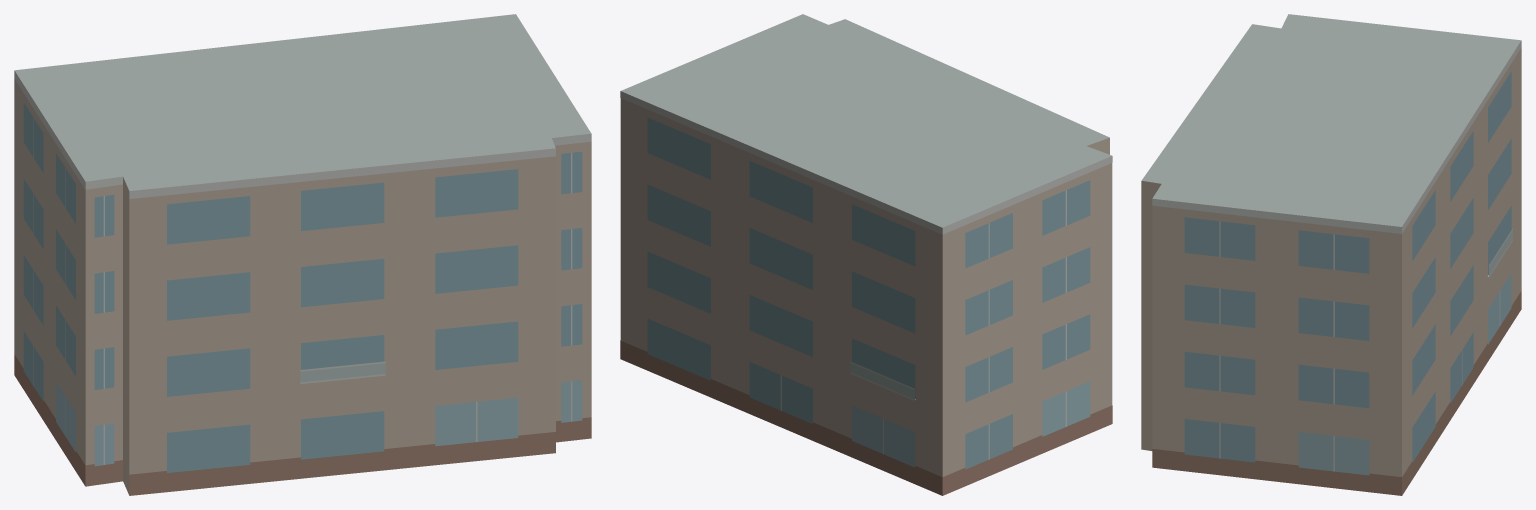
Rendered from survey-upis-32810973.glb.
The picture shows the model from 3 angles, left to right: view 1: azimuth 30°, elevation 25°; view 2: azimuth 150°, elevation 25°; view 3: azimuth 270°, elevation 25°; orthographic projection. The views are drawn at different scales.
Visible parts, largest first — view 1: survey-upis-32810973.tmp; view 2: survey-upis-32810973.tmp; view 3: survey-upis-32810973.tmp.
Part boxes in pixels (x1=…): survey-upis-32810973.tmp: x1=14, y1=14, x2=591, y2=495; survey-upis-32810973.tmp: x1=620, y1=14, x2=1112, y2=495; survey-upis-32810973.tmp: x1=1141, y1=14, x2=1521, y2=495.
Size of the model in its own units: 15.95 by 9.38 by 12.03.
